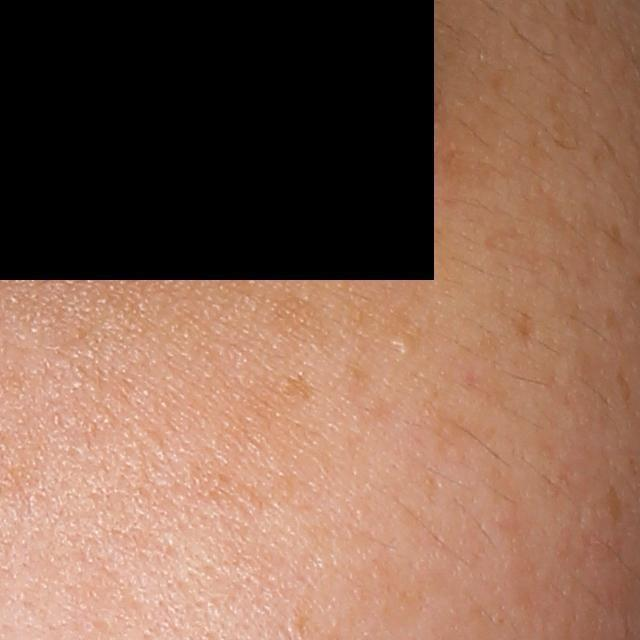comedo: (389, 336, 415, 360)
melasma: (549, 62, 601, 158), (261, 294, 332, 351), (441, 145, 513, 194), (581, 210, 633, 257), (269, 371, 322, 407), (505, 298, 542, 348), (601, 485, 624, 526), (616, 369, 635, 408)
